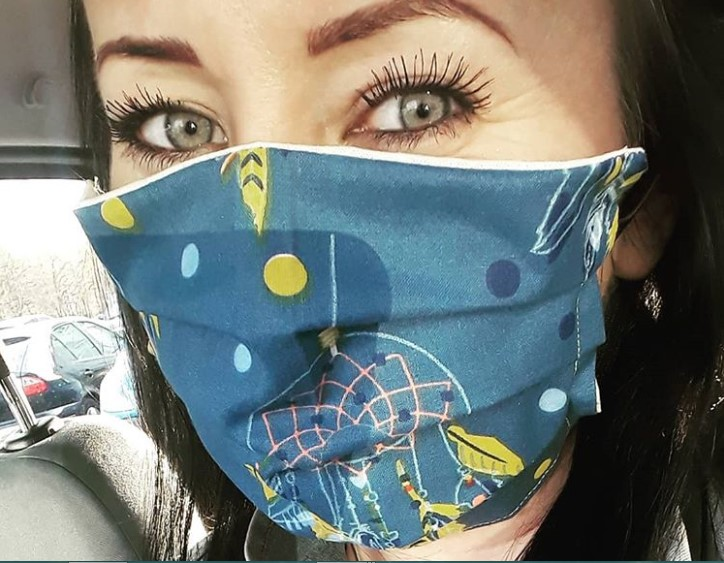face_with_mask: (57, 2, 649, 546)
